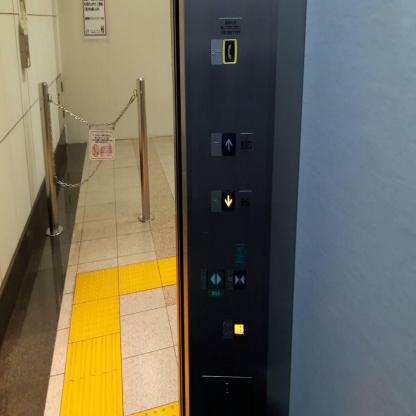call: (222, 38, 237, 64)
close: (233, 270, 246, 289)
down: (221, 188, 235, 213)
open: (206, 268, 225, 289)
text: (232, 318, 245, 338)
up: (221, 131, 236, 157)
